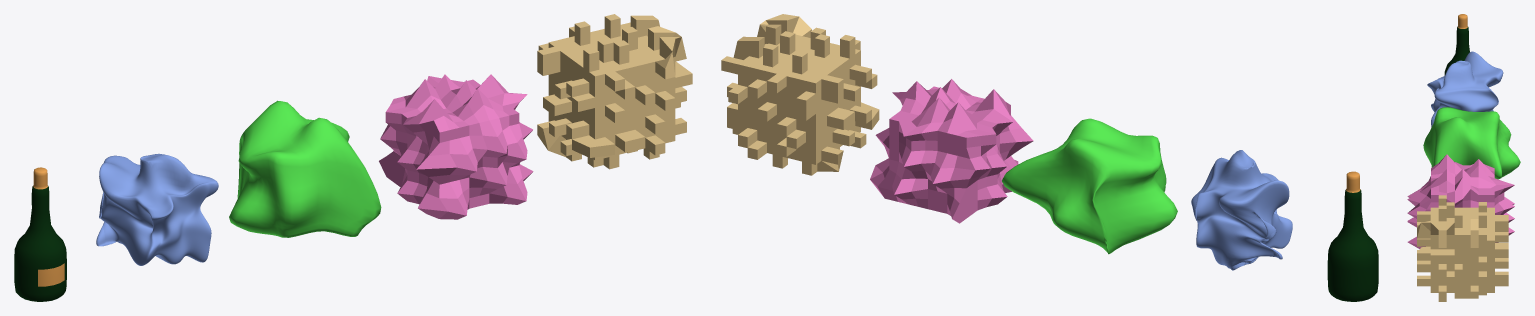
Rendered from van alles en nog wat6.fbx.
The picture shows the model from 3 angles, left to right: view 1: azimuth 30°, elevation 25°; view 2: azimuth 150°, elevation 25°; view 3: azimuth 270°, elevation 25°; orthographic projection. The views are drawn at different scales.
Parts seen in each view (by area): view 1: Cube.025, Cube.024, Cube.023, Cube.022, Cylinder.002; view 2: Cube.025, Cube.024, Cube.023, Cube.022, Cylinder.002; view 3: Cube.025, Cube.023, Cube.024, Cube.022, Cylinder.002.
Boxes of the visible parts, <box> form: Cube.025: <box>537,14,692,169</box>; Cube.024: <box>379,74,533,219</box>; Cube.023: <box>229,100,381,237</box>; Cube.022: <box>96,153,218,265</box>; Cylinder.002: <box>14,167,66,301</box>; Cube.025: <box>721,14,879,175</box>; Cube.024: <box>870,79,1033,223</box>; Cube.023: <box>1002,118,1177,254</box>; Cube.022: <box>1191,150,1292,270</box>; Cylinder.002: <box>1327,171,1378,301</box>; Cube.025: <box>1417,195,1508,301</box>; Cube.023: <box>1423,107,1520,179</box>; Cube.024: <box>1407,154,1514,249</box>; Cube.022: <box>1427,51,1503,127</box>; Cylinder.002: <box>1444,14,1469,75</box>.
Bounding box in the file's own units: 17020 × 3081 × 3721.
